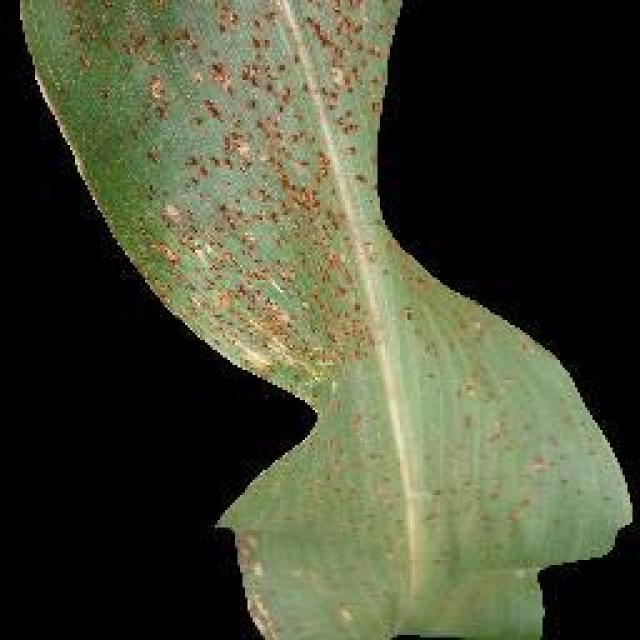Corn Common Rust: (106, 30, 466, 365)
